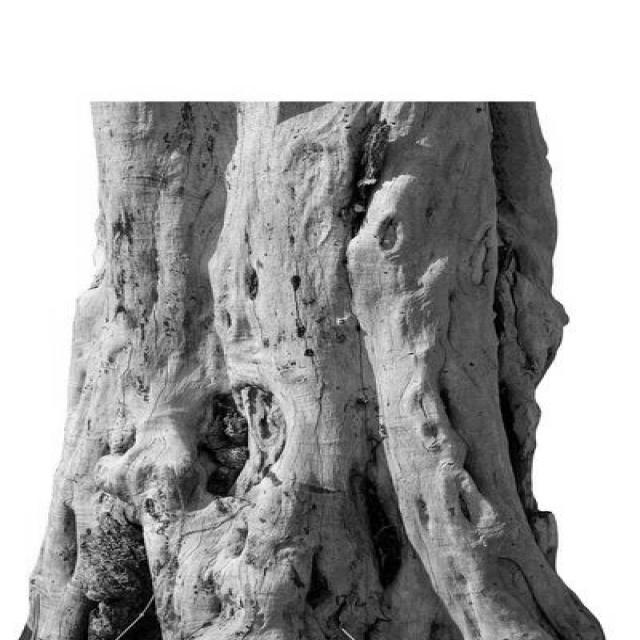Tree: (31, 102, 556, 640)
